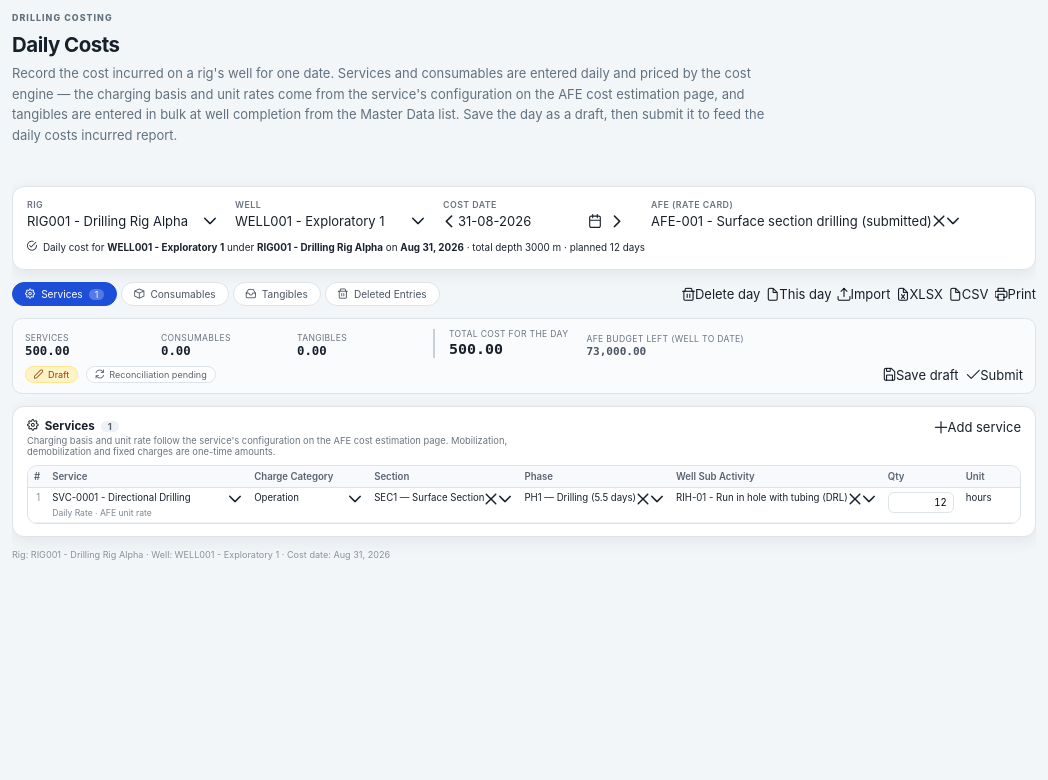
Daily Costs — context and the day sheet › shows the saved day, its totals and the fuel rate captured from the AFE
Expected: the element with test id "daily-cost-summary" shows "500.00", [25,344,70,358]
Click the button with class "toolbar__tab" showing "Consumables" at [175, 294], box [121,282,229,306]
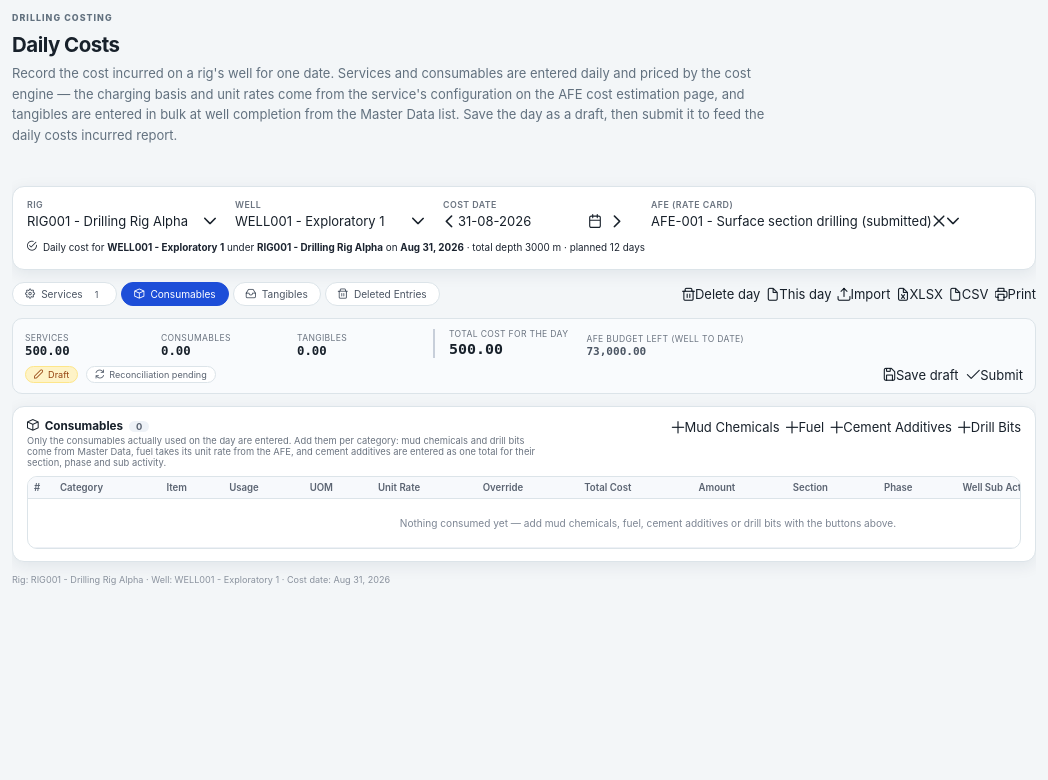
Expected: the element with test id "daily-consumable-lines" is shown, [27,419,1021,549]
Expected: the text "fuel takes its unit rate from the AFE" is shown, [27,435,535,468]
Click the button with class "toolbar__tab" showing "Tangibles" at [277, 294], box [233,282,321,306]
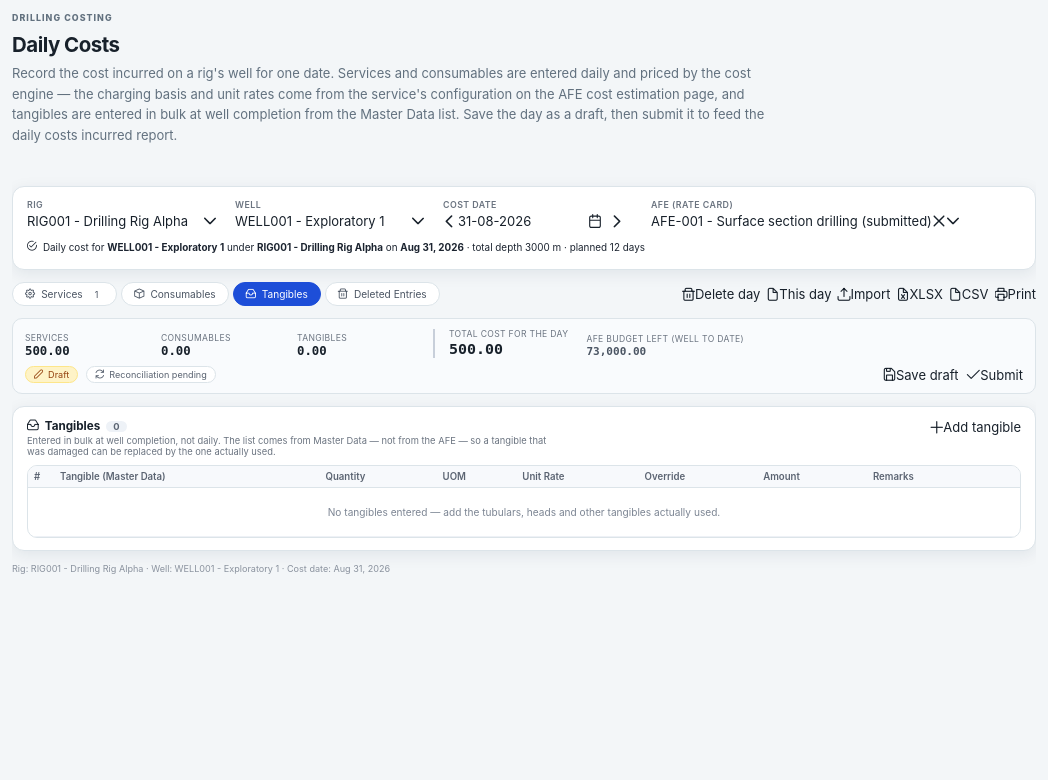
Expected: the element with test id "daily-tangible-lines" is shown, [27,419,1021,538]
Expected: the text "The list comes from Master Data" is shown, [27,435,546,457]
